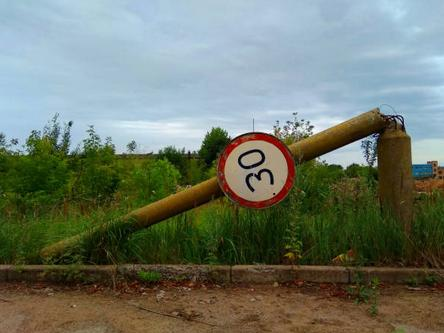obstructed_road_sign: (218, 133, 294, 208)
